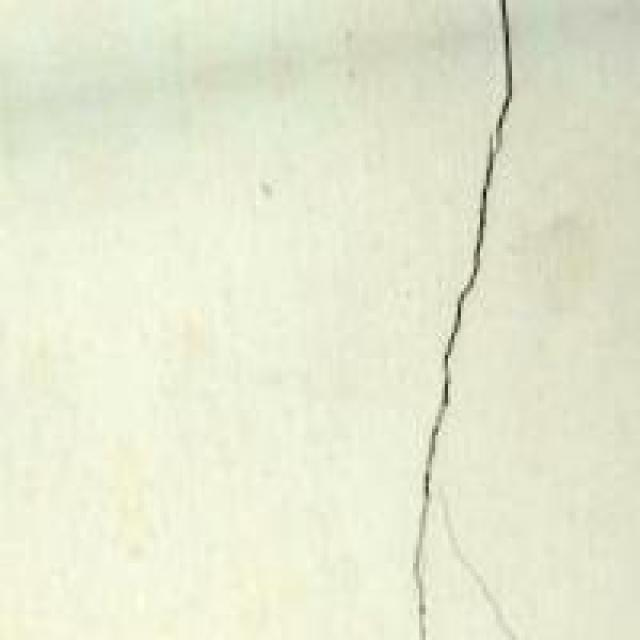Crack: (406, 0, 534, 637)
